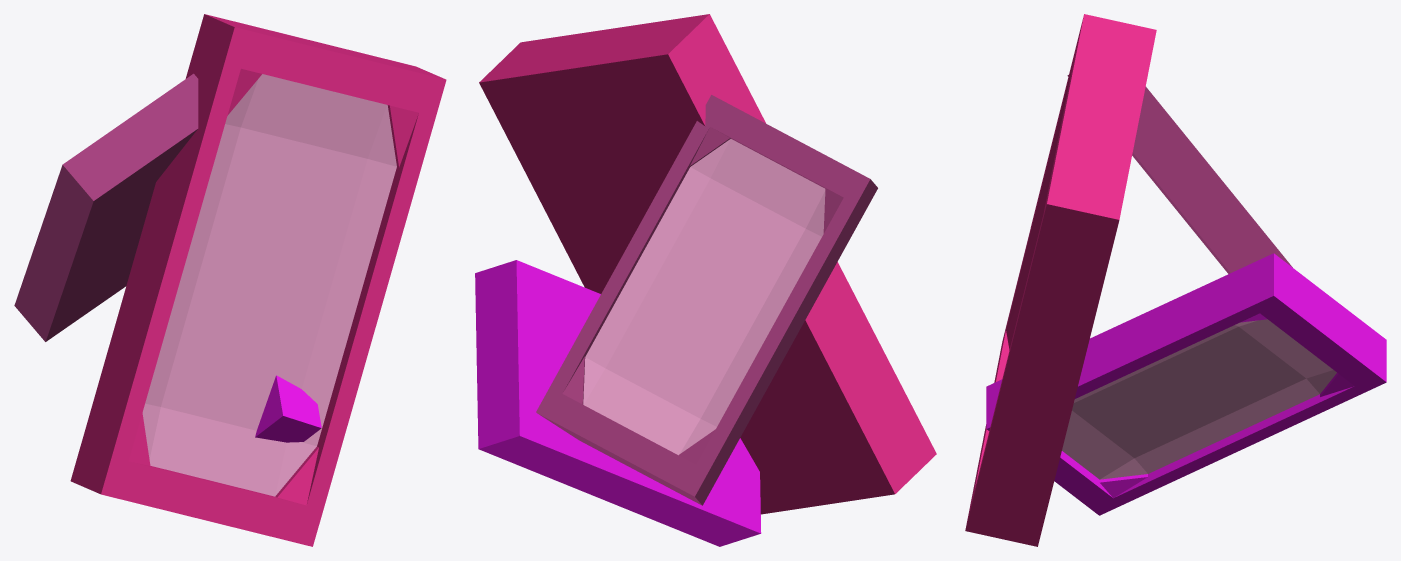
Rendered from ParticleMaterial.fbx.
3 views of the same model, side by side, from view 1: azimuth 30°, elevation 25°; view 2: azimuth 150°, elevation 25°; view 3: azimuth 270°, elevation 25° (orthographic). The views are drawn at different scales.
Parts seen in each view (by area): view 1: Cube; view 2: Cube; view 3: Cube.
Boxes of the visible parts, x1,y1,x2,y2 form: Cube: (14, 14, 446, 546); Cube: (475, 14, 936, 546); Cube: (965, 14, 1386, 546).
Bounding box in the file's own units: 98.73 × 126 × 92.8.
